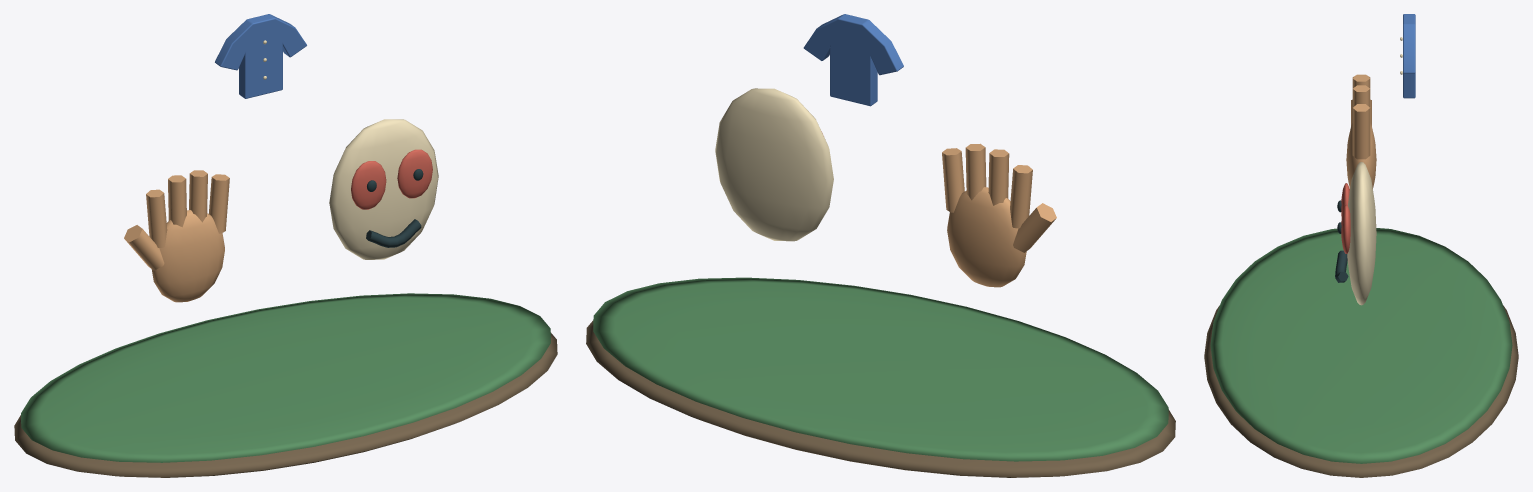
The model's file is complete-third-struck-costume-decoration.glb.
3 renders of one model, left to right at view 1: azimuth 30°, elevation 25°; view 2: azimuth 150°, elevation 25°; view 3: azimuth 270°, elevation 25°, orthographic. The views are drawn at different scales.
Parts seen in each view (by area): view 1: complete-third-struck-costume-decoration_surface_01, complete-third-struck-costume-decoration_surface_02, complete-third-struck-costume-decoration_surface_00, complete-third-struck-costume-decoration_surface_03, complete-third-struck-costume-decoration_surface_06, complete-third-struck-costume-decoration_surface_04, complete-third-struck-costume-decoration_surface_05; view 2: complete-third-struck-costume-decoration_surface_01, complete-third-struck-costume-decoration_surface_03, complete-third-struck-costume-decoration_surface_02, complete-third-struck-costume-decoration_surface_00, complete-third-struck-costume-decoration_surface_06; view 3: complete-third-struck-costume-decoration_surface_01, complete-third-struck-costume-decoration_surface_00, complete-third-struck-costume-decoration_surface_03, complete-third-struck-costume-decoration_surface_02, complete-third-struck-costume-decoration_surface_06, complete-third-struck-costume-decoration_surface_04, complete-third-struck-costume-decoration_surface_05.
Boxes of the visible parts, x1,y1,x2,y2 form: complete-third-struck-costume-decoration_surface_01: [21, 293, 550, 462]; complete-third-struck-costume-decoration_surface_02: [124, 170, 229, 302]; complete-third-struck-costume-decoration_surface_00: [14, 333, 557, 477]; complete-third-struck-costume-decoration_surface_03: [263, 40, 438, 259]; complete-third-struck-costume-decoration_surface_06: [215, 14, 306, 98]; complete-third-struck-costume-decoration_surface_04: [351, 149, 432, 209]; complete-third-struck-costume-decoration_surface_05: [366, 169, 423, 247]; complete-third-struck-costume-decoration_surface_01: [593, 277, 1168, 461]; complete-third-struck-costume-decoration_surface_03: [715, 88, 833, 241]; complete-third-struck-costume-decoration_surface_02: [942, 143, 1056, 287]; complete-third-struck-costume-decoration_surface_00: [586, 320, 1175, 477]; complete-third-struck-costume-decoration_surface_06: [803, 14, 903, 106]; complete-third-struck-costume-decoration_surface_01: [1210, 228, 1512, 463]; complete-third-struck-costume-decoration_surface_00: [1204, 305, 1518, 477]; complete-third-struck-costume-decoration_surface_03: [1347, 37, 1402, 305]; complete-third-struck-costume-decoration_surface_02: [1346, 74, 1376, 188]; complete-third-struck-costume-decoration_surface_06: [1403, 14, 1415, 98]; complete-third-struck-costume-decoration_surface_04: [1341, 183, 1350, 253]; complete-third-struck-costume-decoration_surface_05: [1335, 200, 1348, 282].
Size of the model in its own units: 4.56 by 3.09 by 2.5.
